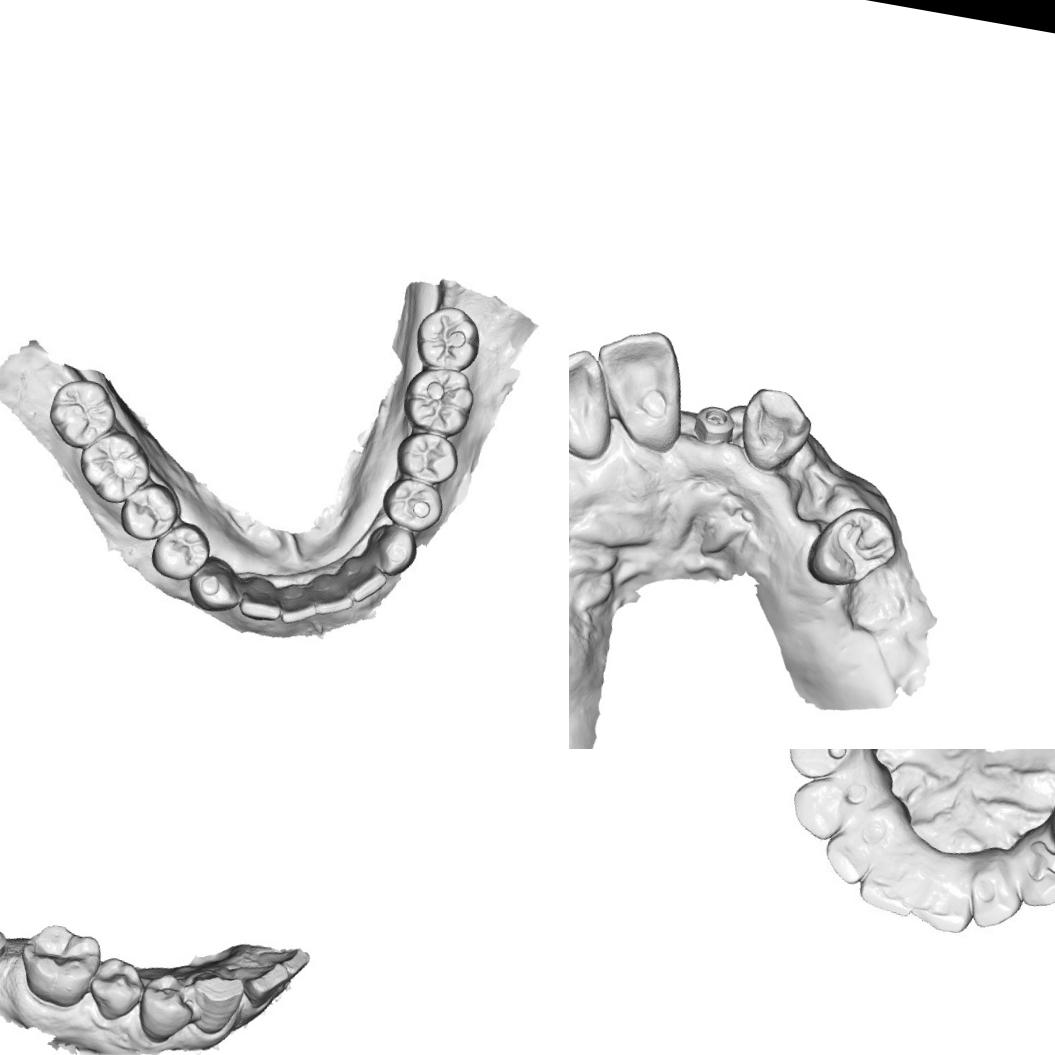canine: (730, 382, 815, 480), (783, 770, 864, 845), (183, 966, 248, 1040), (184, 552, 246, 616), (1003, 839, 1055, 913), (362, 520, 420, 580)
implant: (686, 396, 743, 458), (0, 916, 12, 964)
incisor: (580, 320, 694, 454), (569, 338, 624, 455), (818, 815, 888, 890), (910, 864, 978, 938), (962, 861, 1026, 935), (854, 853, 922, 919), (228, 953, 292, 1011), (336, 553, 390, 608), (235, 573, 286, 624), (252, 939, 314, 979), (312, 571, 358, 620), (277, 584, 320, 628)
molar: (7, 915, 104, 1013), (72, 423, 157, 508), (42, 373, 122, 454), (397, 361, 479, 439), (410, 300, 486, 374)
premolar: (800, 493, 904, 597), (129, 967, 200, 1049), (82, 950, 150, 1025), (115, 476, 183, 546), (146, 516, 214, 584), (391, 426, 462, 487), (378, 474, 446, 535), (782, 749, 865, 787)
